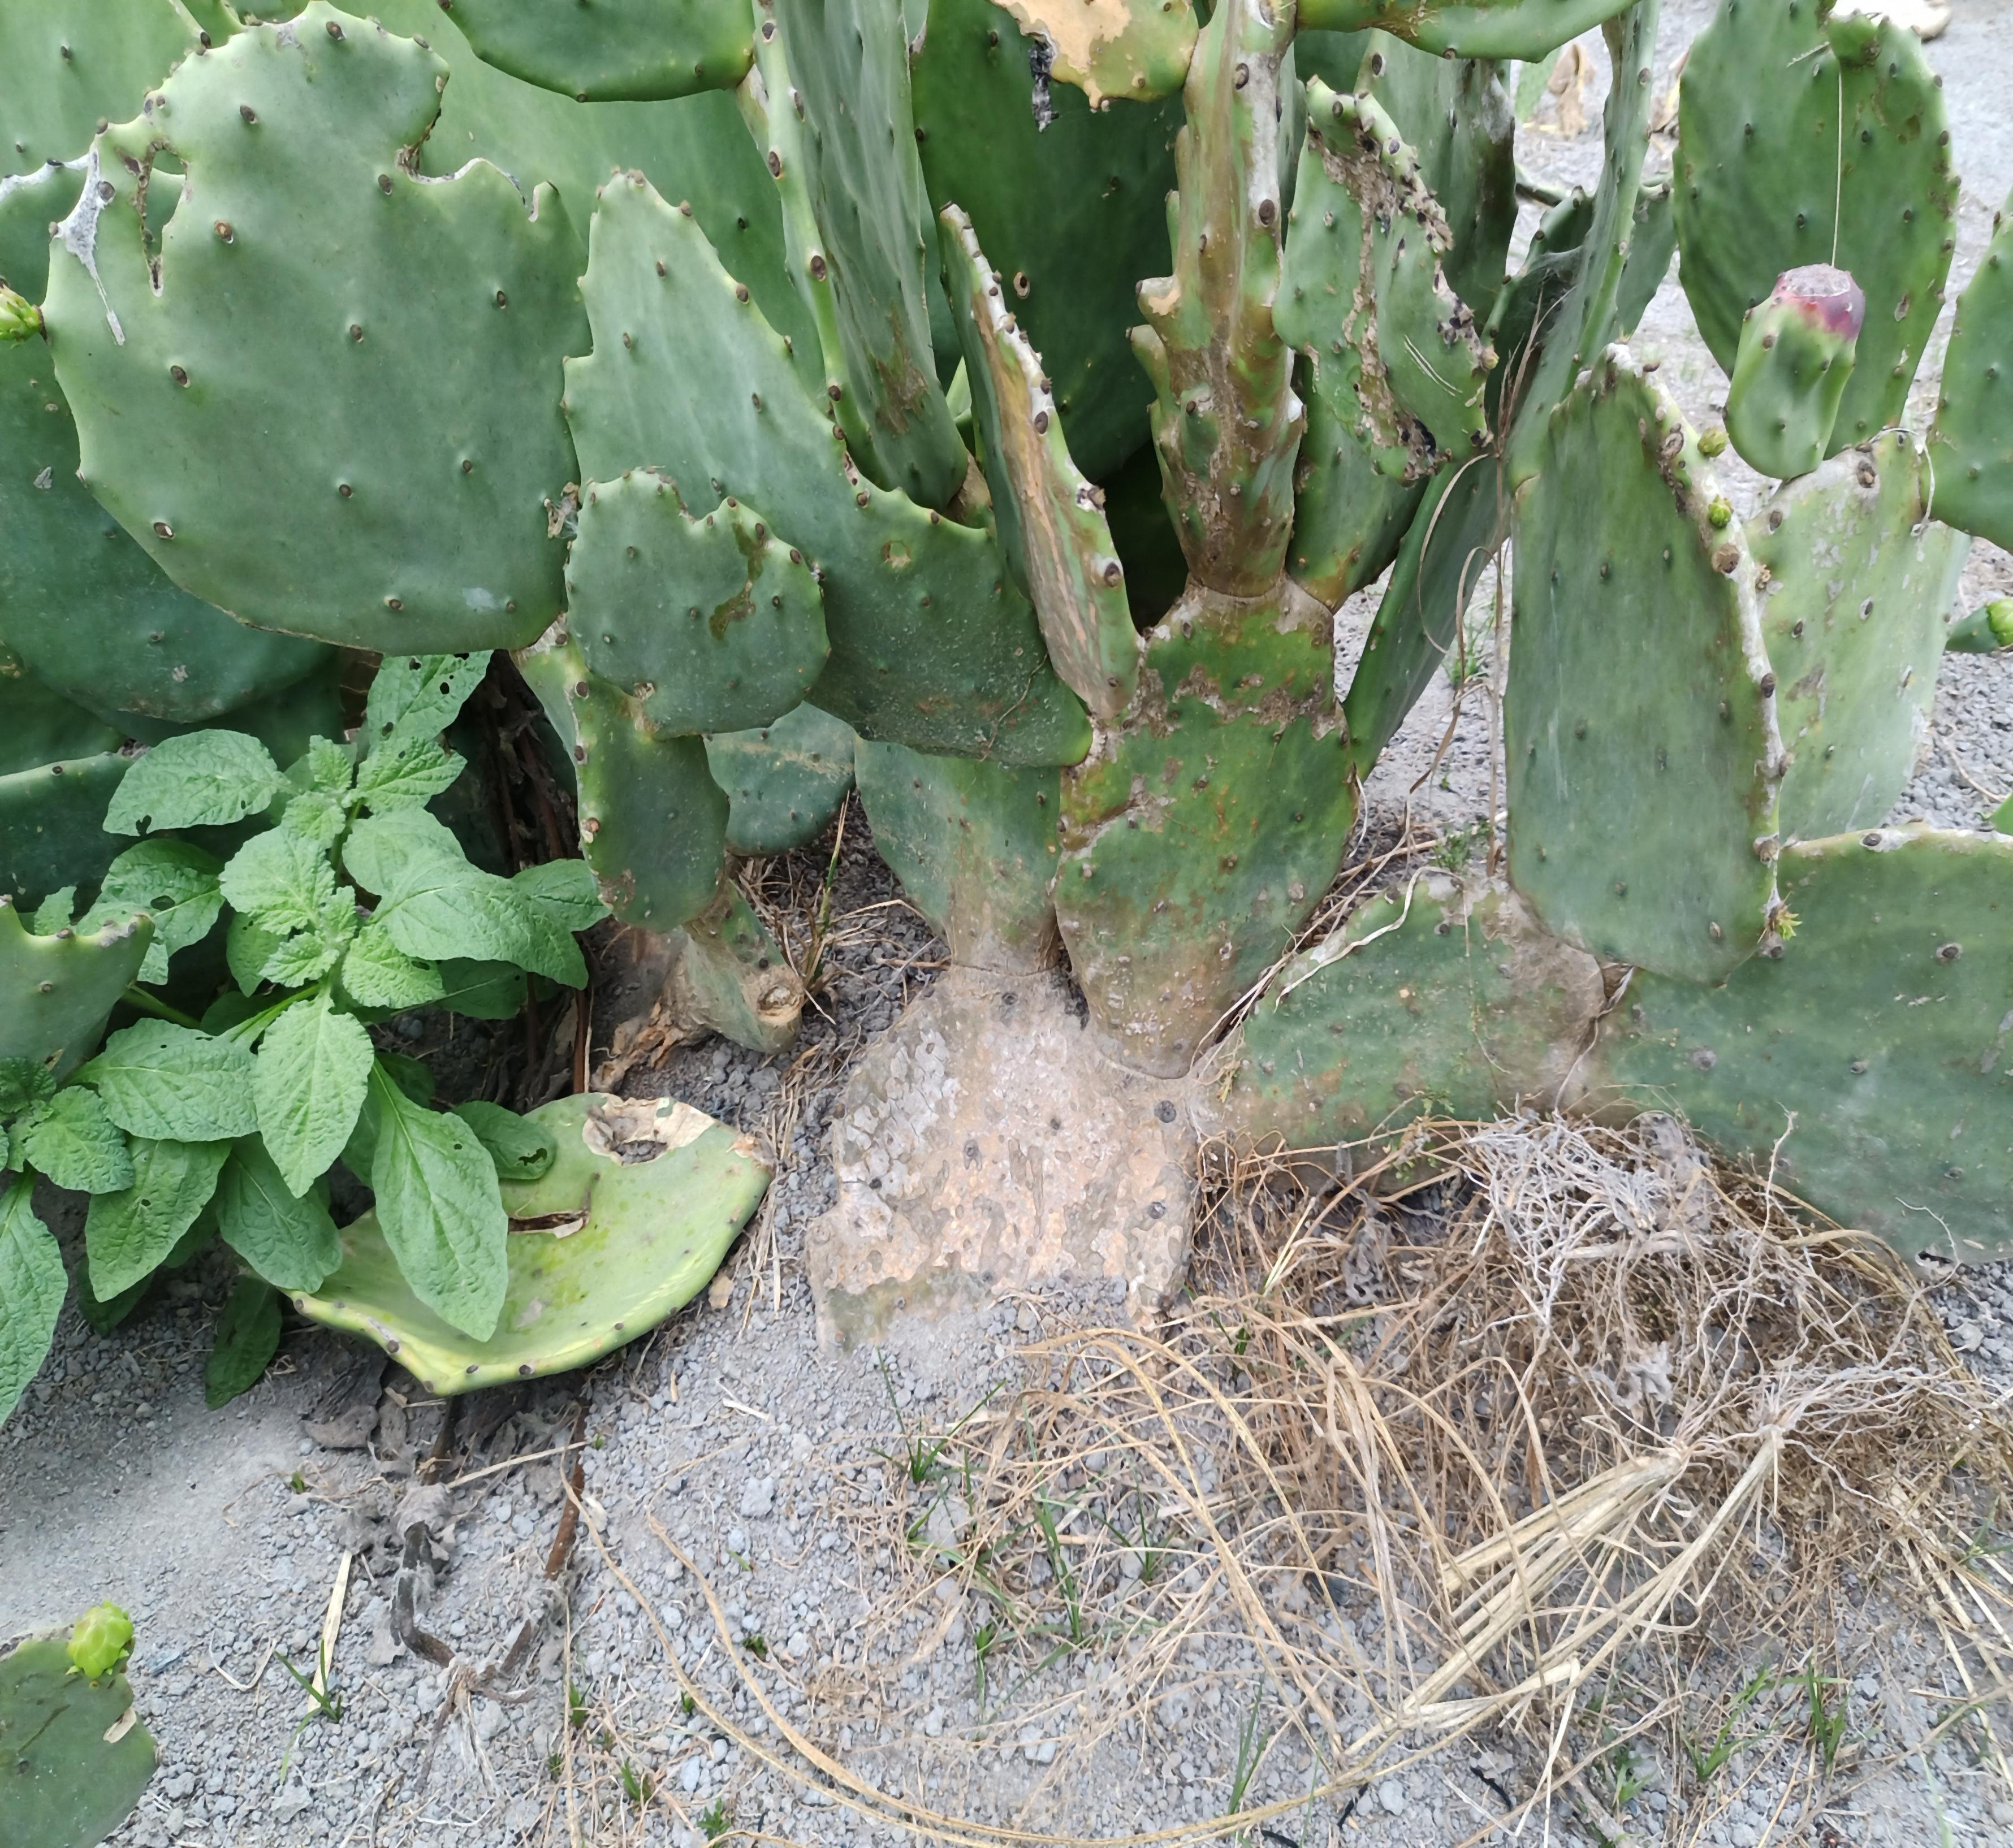impropria: (14, 9, 585, 669), (254, 1079, 781, 1432), (1269, 94, 1498, 601), (953, 217, 1151, 746), (548, 468, 840, 750), (1013, 1, 1197, 106)
propria: (1490, 347, 1778, 1045), (1607, 831, 2013, 1304), (742, 5, 999, 554), (1671, 5, 1950, 483), (1724, 421, 1980, 823)
